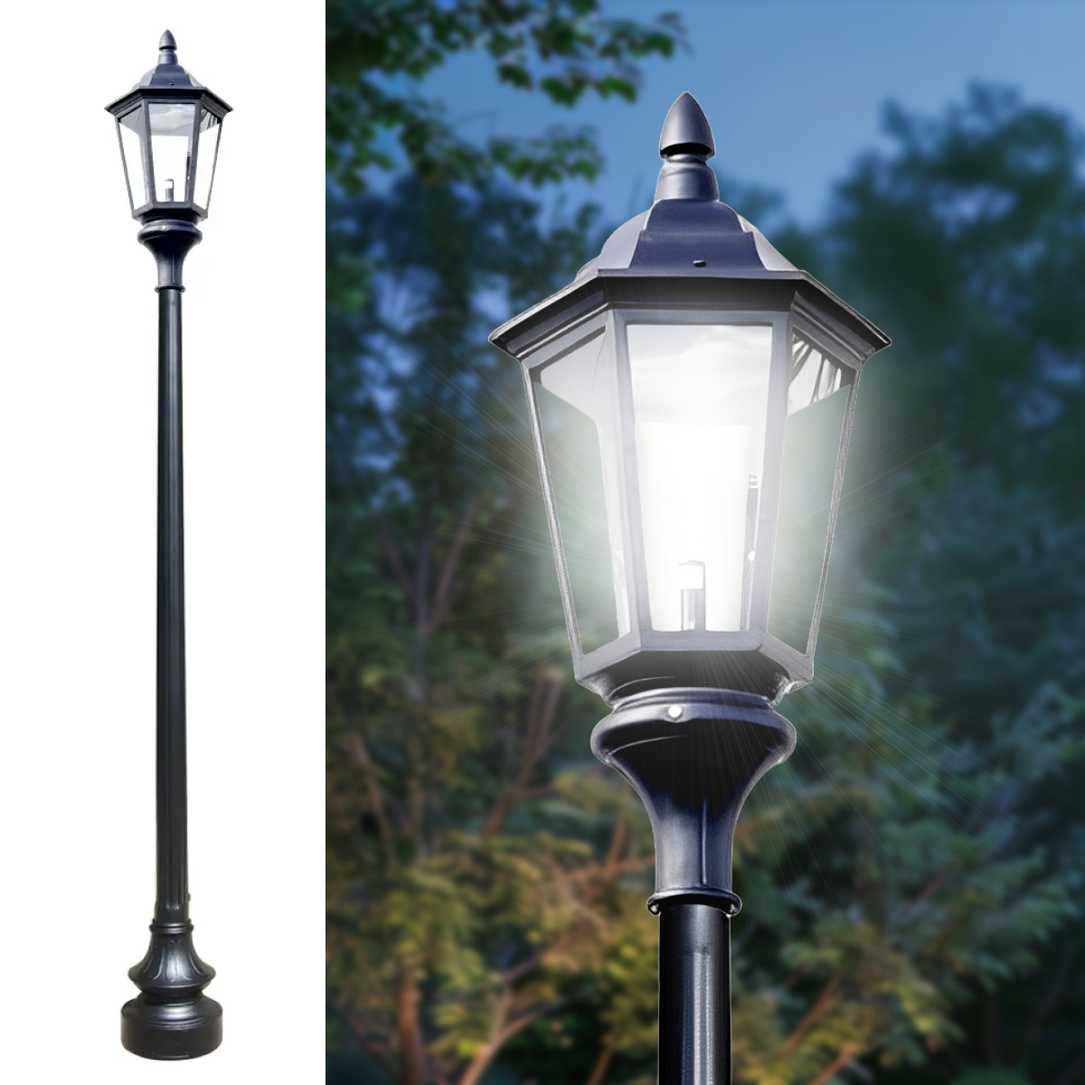Lamp: (464, 89, 885, 1085), (87, 26, 260, 1062)
